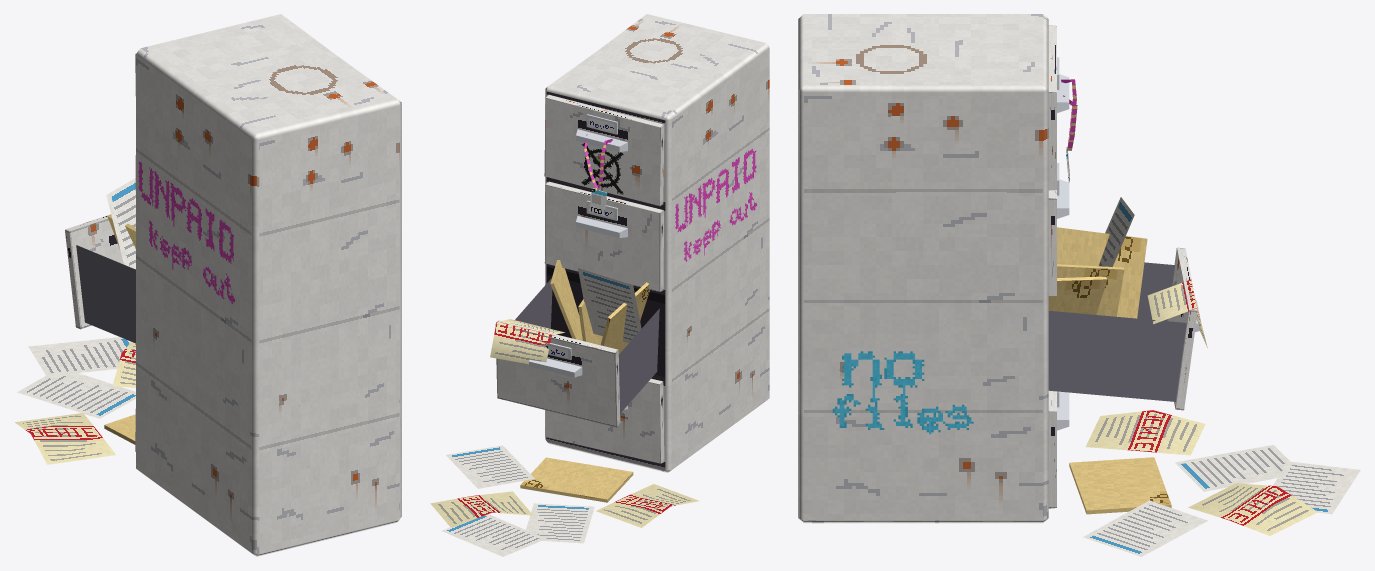
The model's file is s_filecab.glb.
The picture shows the model from 3 angles, left to right: view 1: azimuth 30°, elevation 25°; view 2: azimuth 150°, elevation 25°; view 3: azimuth 270°, elevation 25°; orthographic projection. The views are drawn at different scales.
Visible parts, largest first — view 1: s_filecab_mesh; view 2: s_filecab_mesh; view 3: s_filecab_mesh.
Part boxes in pixels (x1,y1,x2,y2): s_filecab_mesh: (15, 14, 401, 556); s_filecab_mesh: (430, 14, 769, 556); s_filecab_mesh: (798, 14, 1360, 556).
Size of what is drawn, in the model's own units: 0.9355 by 1.35 by 1.57.
4 materials, 4 textured.
